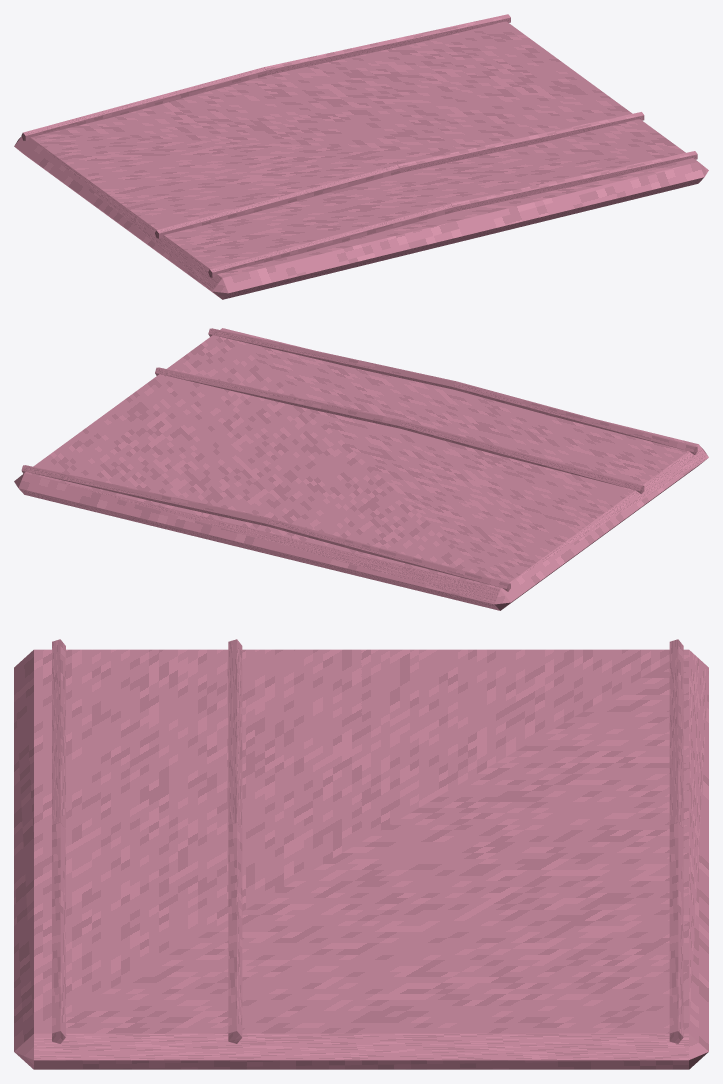
File: raw_hleather.glb
The picture shows the model from 3 angles, top to bottom: view 1: azimuth 30°, elevation 25°; view 2: azimuth 150°, elevation 25°; view 3: azimuth 270°, elevation 25°; orthographic projection. The views are drawn at different scales.
Visible parts, largest first — view 1: block_folded fiber or fabric, block_textile edge 0 (×3), block_textile edge 1 (×3); view 2: block_folded fiber or fabric, block_textile edge 0 (×3), block_textile edge 1 (×3); view 3: block_folded fiber or fabric, block_textile edge 1 (×3), block_textile edge 0 (×3).
Boxes of the visible parts, x1,y1,x2,y2 form: block_folded fiber or fabric: (14,21,708,299); block_textile edge 0 (×3): (21,67,453,277); block_textile edge 1 (×3): (264,14,697,212); block_folded fiber or fabric: (14,328,708,610); block_textile edge 0 (×3): (266,381,697,591); block_textile edge 1 (×3): (21,328,455,526); block_folded fiber or fabric: (14,649,708,1069); block_textile edge 1 (×3): (52,823,683,1043); block_textile edge 0 (×3): (52,639,683,828).
Size of the model in its own units: 0.095 by 0.00593 by 0.0696.
1 material, 1 textured.
